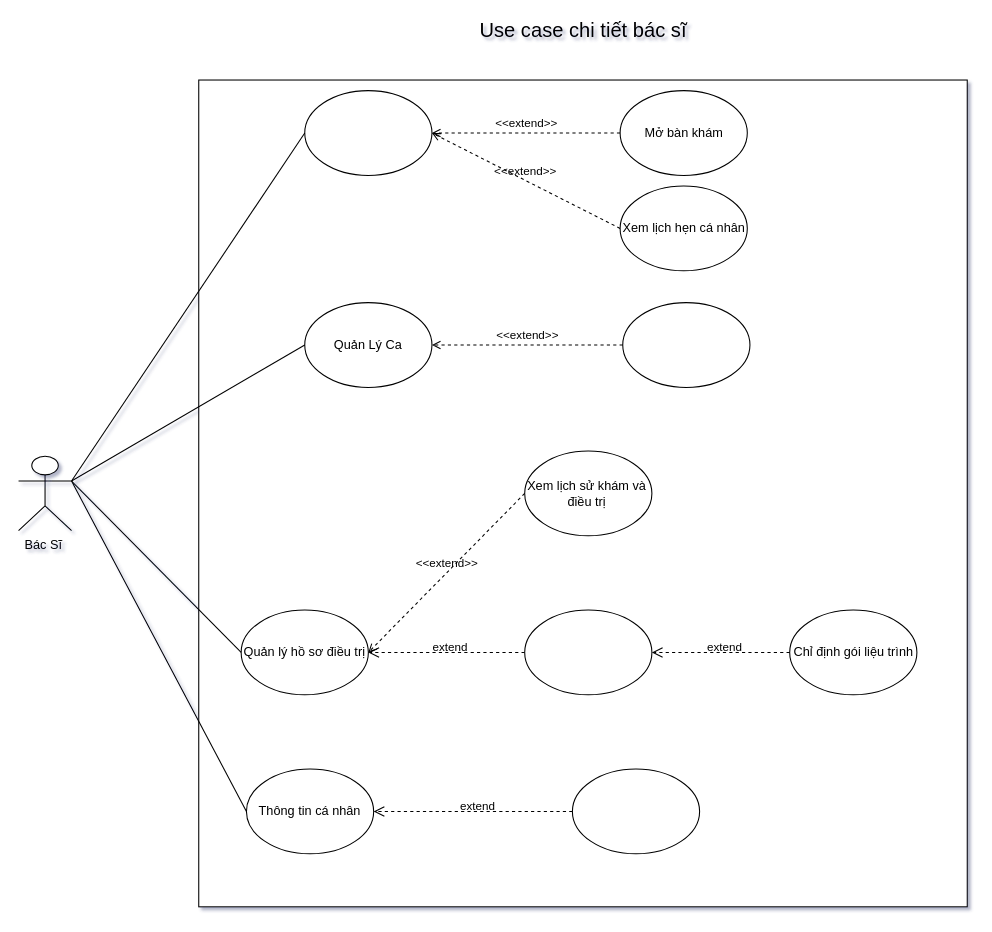
The diagram is 992 pixels wide and 932 high, and some of its shapes have lost their labels. The centre of each missing label's shape, as x and y in pixels:
"Cập nhập thông tin cá nhân" goes at point (635, 811).
"Quản lý lịch hẹn" goes at point (368, 132).
"Thêm nhật ký khám" goes at point (588, 652).
"Xem lịch làm việc" goes at point (686, 344).
